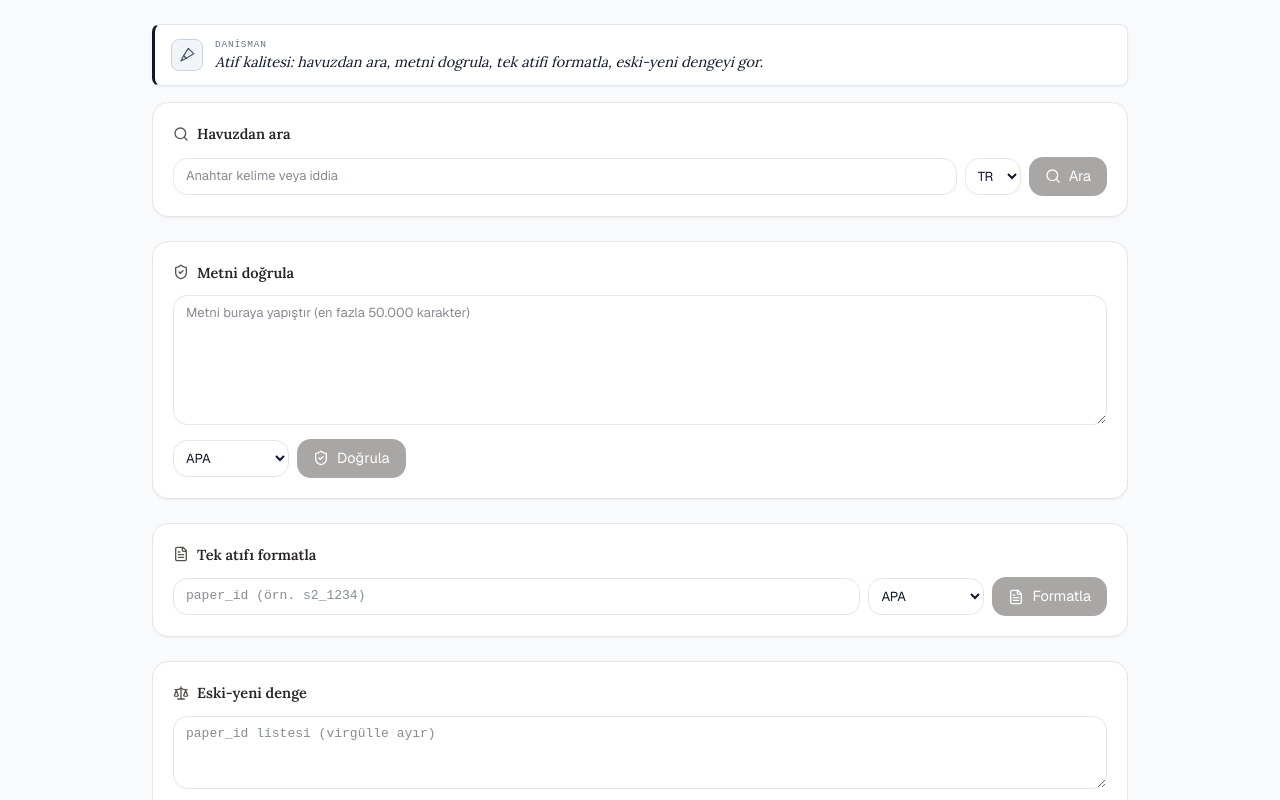
Scenario: CitationQualityPage › Search → GET /citation-search + paper kartlari + synonyms render
Type "fuzzy topsis" into the field with placeholder "Anahtar kelime veya iddia" at (565, 176), box top-left (173, 158), bottom-right (957, 195)
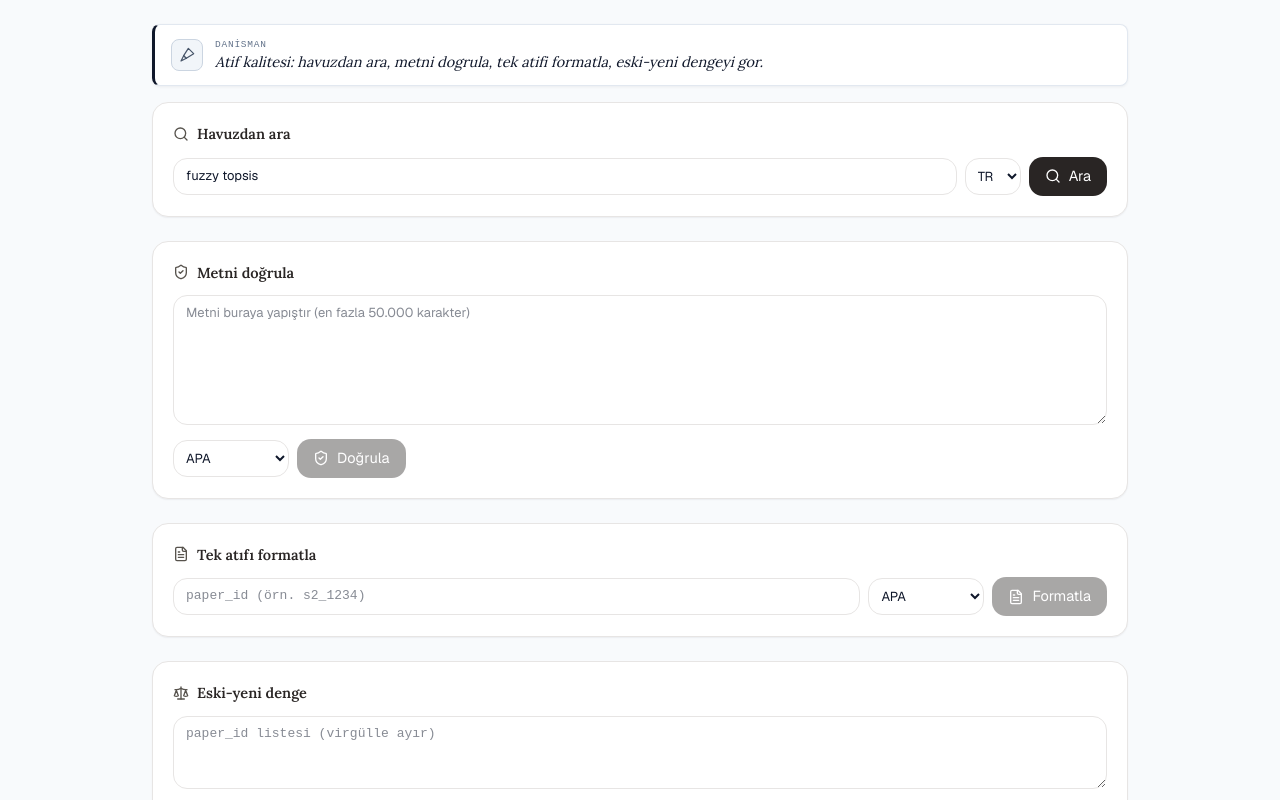
Click the button "Ara" at (1068, 176), box top-left (1029, 157), bottom-right (1107, 196)
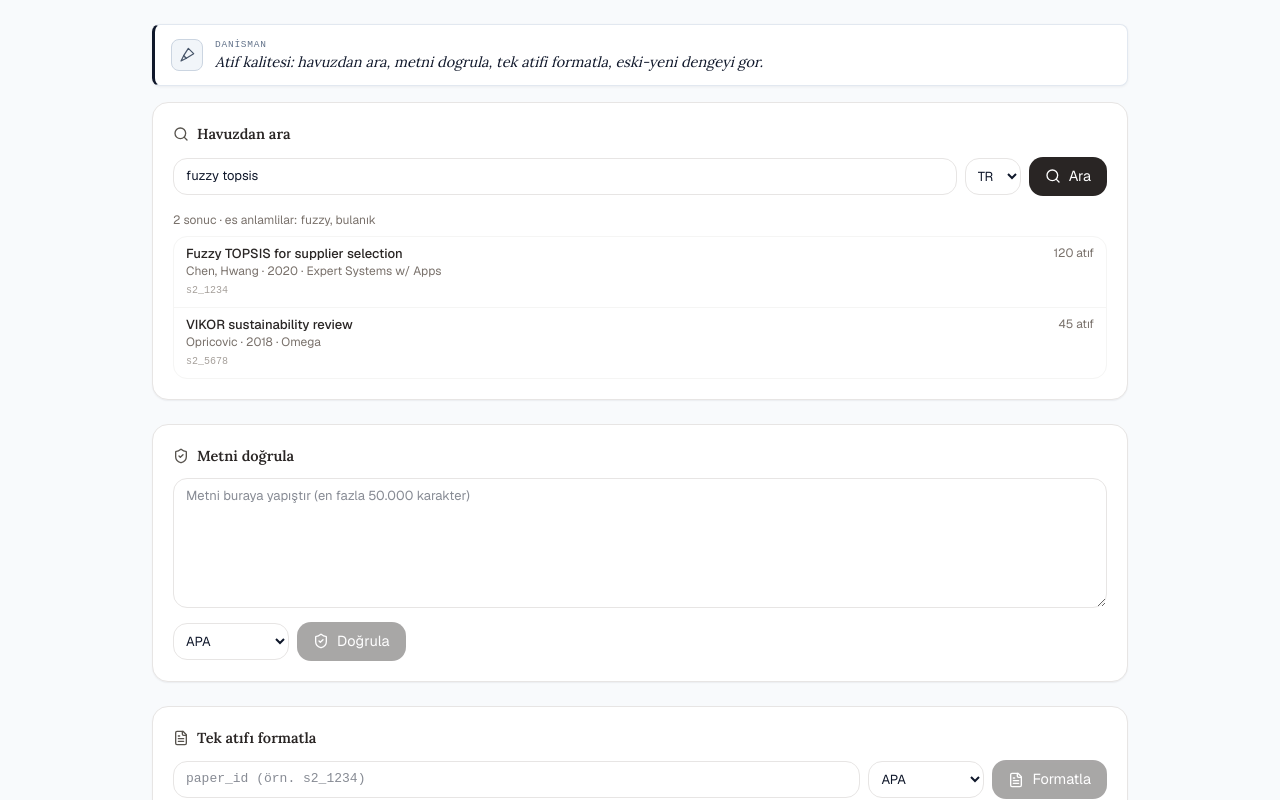
Now the text "Fuzzy TOPSIS for supplier selection" is shown, box top-left (186, 244), bottom-right (403, 262)
Now the text "VIKOR sustainability review" is shown, box top-left (186, 316), bottom-right (353, 334)
Now the text "2 sonuc · es anlamlilar: fuzzy, bulanık" is shown, box top-left (173, 212), bottom-right (376, 228)
